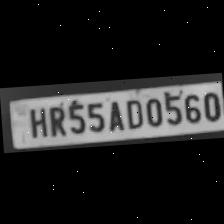0: (198, 87, 221, 121), (142, 92, 162, 126)
5: (160, 89, 182, 126), (63, 98, 85, 134), (82, 97, 104, 132)
6: (181, 88, 200, 123)
A: (104, 96, 124, 132)
D: (121, 94, 143, 128)
H: (22, 104, 46, 138)
R: (44, 101, 66, 137)
